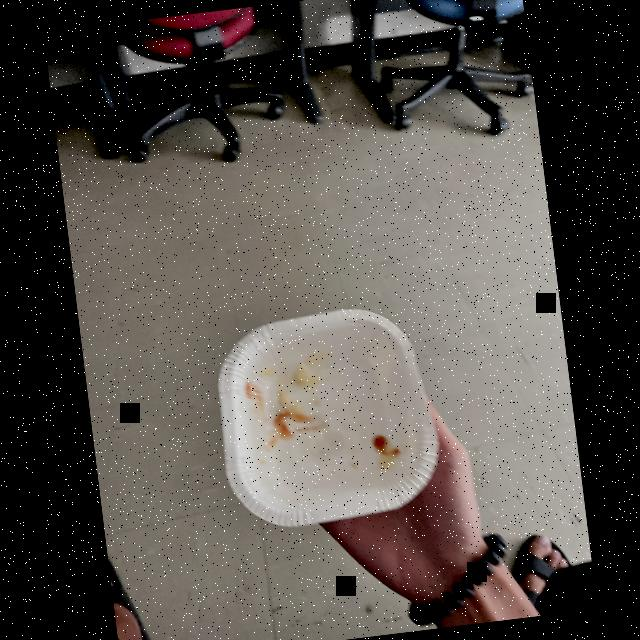cardboard_bowl: (201, 290, 452, 536)
